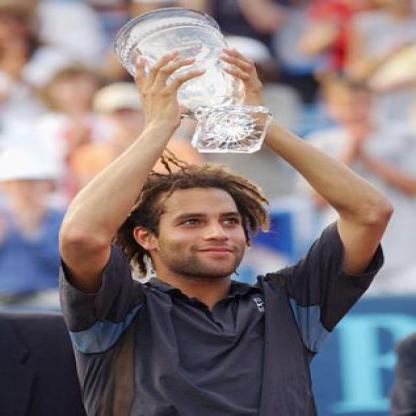face: (152, 175, 257, 281), (54, 74, 95, 113), (332, 83, 370, 124)
